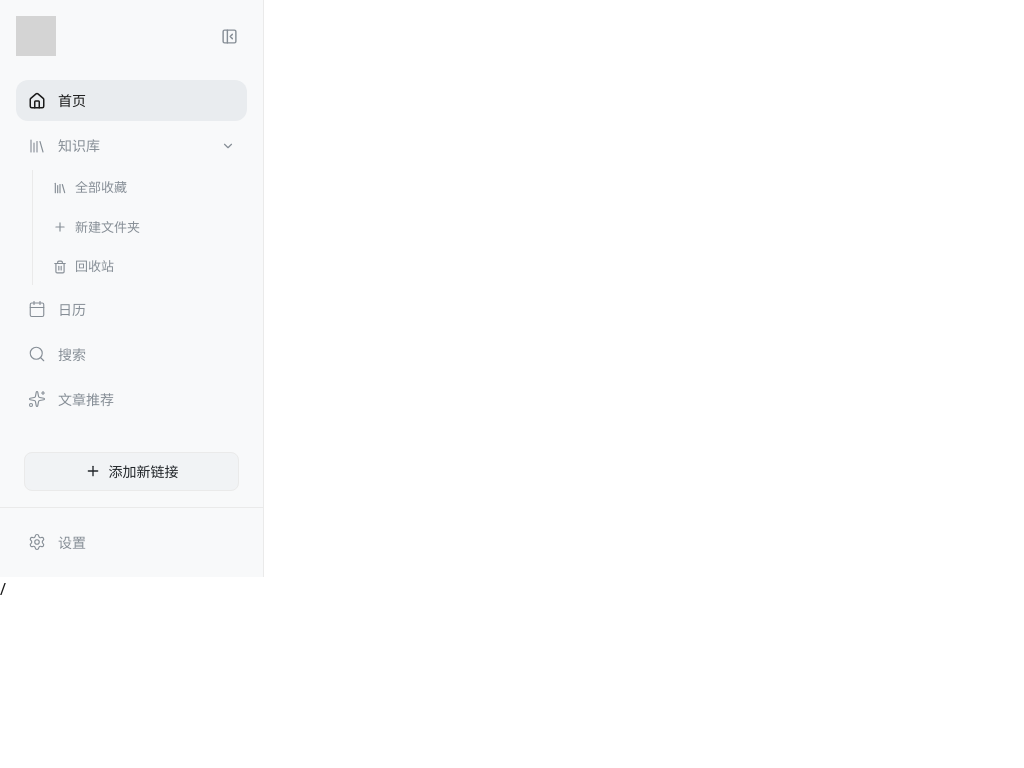
Sidebar › opens the import modal from the bottom action
What coordinates should you click on to do the following:
click the button "添加新链接"
I would click on:
 (132, 471)
Its box is [24, 452, 239, 490].
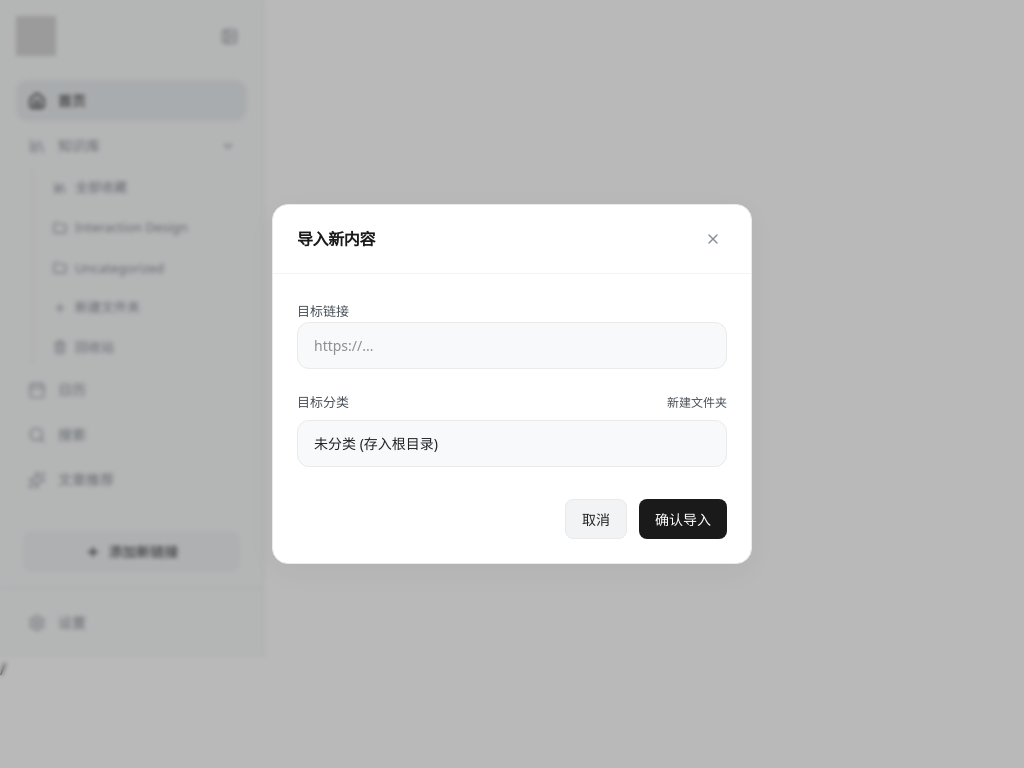
Expected: the heading "导入新内容" is shown, [297, 227, 375, 251]
